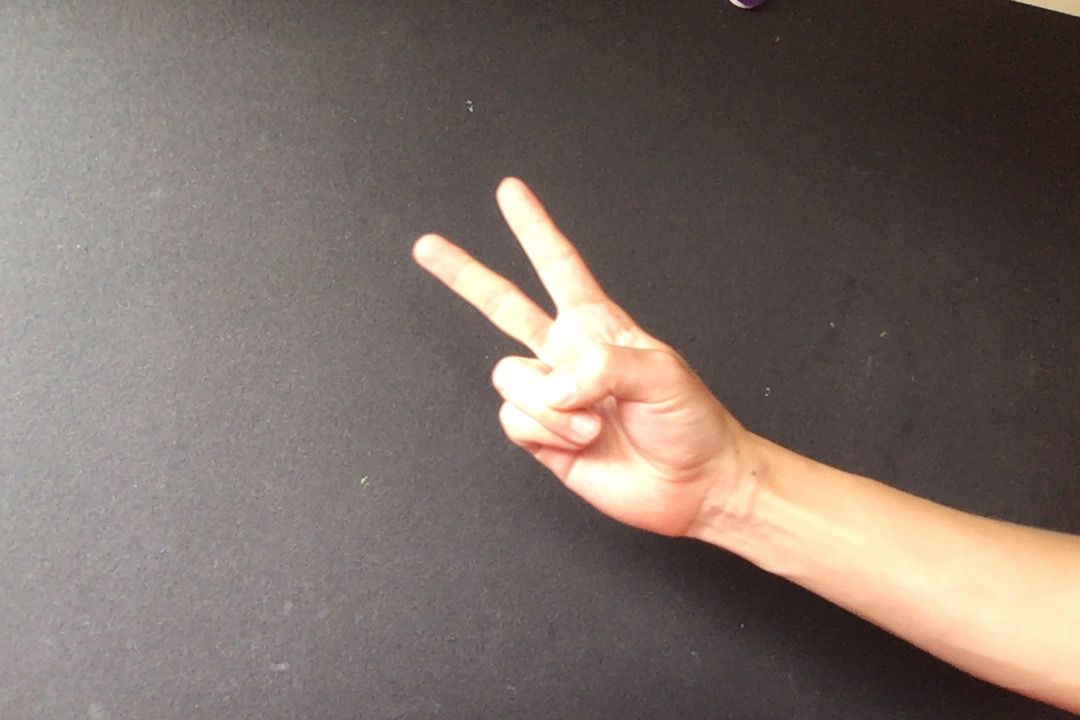peacesign: (411, 170, 728, 560)
